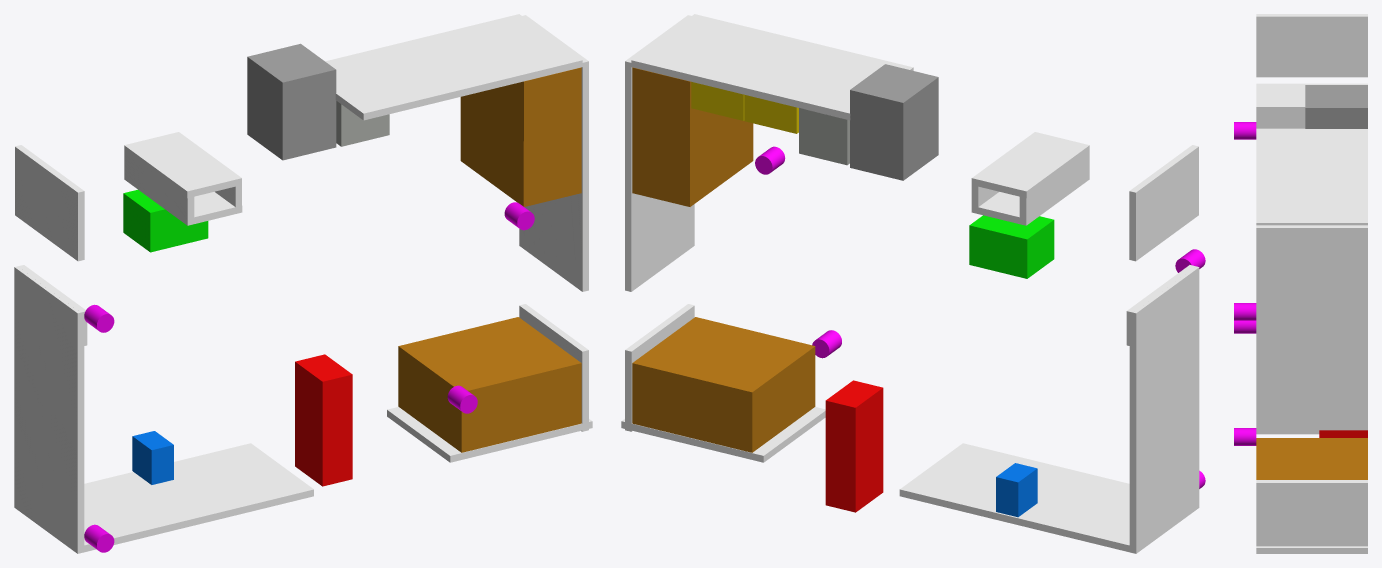
File: highbay_swarm_world.dae
3 views of the same model, side by side, from view 1: azimuth 30°, elevation 25°; view 2: azimuth 150°, elevation 25°; view 3: azimuth 270°, elevation 25° (orthographic). The views are drawn at different scales.
Visible parts, largest first — view 1: node_14, node_10, node_8, node_15, node_2, node_16, node_18, node_7, node_11, node_0, node_19, node_5 (+5 smaller); view 2: node_14, node_10, node_8, node_2, node_15, node_16, node_18, node_7, node_11, node_19, node_0, node_17 (+8 smaller); view 3: node_7, node_8, node_6, node_11, node_14, node_16, node_0, node_4, node_5, node_22, node_23, node_24 (+3 smaller).
Boxes of the visible parts, <box> form: node_14: <box>398,317,581,452</box>; node_10: <box>14,266,84,553</box>; node_8: <box>325,14,582,120</box>; node_15: <box>460,67,581,206</box>; node_2: <box>84,443,313,552</box>; node_16: <box>247,43,336,160</box>; node_18: <box>295,354,352,486</box>; node_7: <box>519,15,588,291</box>; node_11: <box>15,145,84,261</box>; node_0: <box>124,132,241,198</box>; node_19: <box>123,189,208,252</box>; node_5: <box>387,407,592,462</box>; node_14: <box>632,317,815,452</box>; node_10: <box>1129,266,1199,553</box>; node_8: <box>631,14,913,120</box>; node_2: <box>899,443,1129,552</box>; node_15: <box>632,67,753,206</box>; node_16: <box>850,64,938,180</box>; node_18: <box>825,380,883,512</box>; node_7: <box>625,15,694,291</box>; node_11: <box>1129,145,1198,261</box>; node_19: <box>969,215,1054,278</box>; node_0: <box>971,132,1089,198</box>; node_17: <box>799,108,849,165</box>; node_7: <box>1256,225,1367,430</box>; node_8: <box>1256,128,1367,225</box>; node_6: <box>1256,480,1367,546</box>; node_11: <box>1256,14,1367,77</box>; node_14: <box>1256,438,1367,479</box>; node_16: <box>1305,85,1367,128</box>; node_0: <box>1256,83,1367,106</box>; node_4: <box>1256,107,1305,128</box>; node_5: <box>1256,546,1367,553</box>; node_22: <box>1234,428,1256,445</box>; node_23: <box>1234,303,1256,320</box>; node_24: <box>1234,122,1256,139</box>.
Bounding box in the file's own units: 11.76 × 9.19 × 3.
